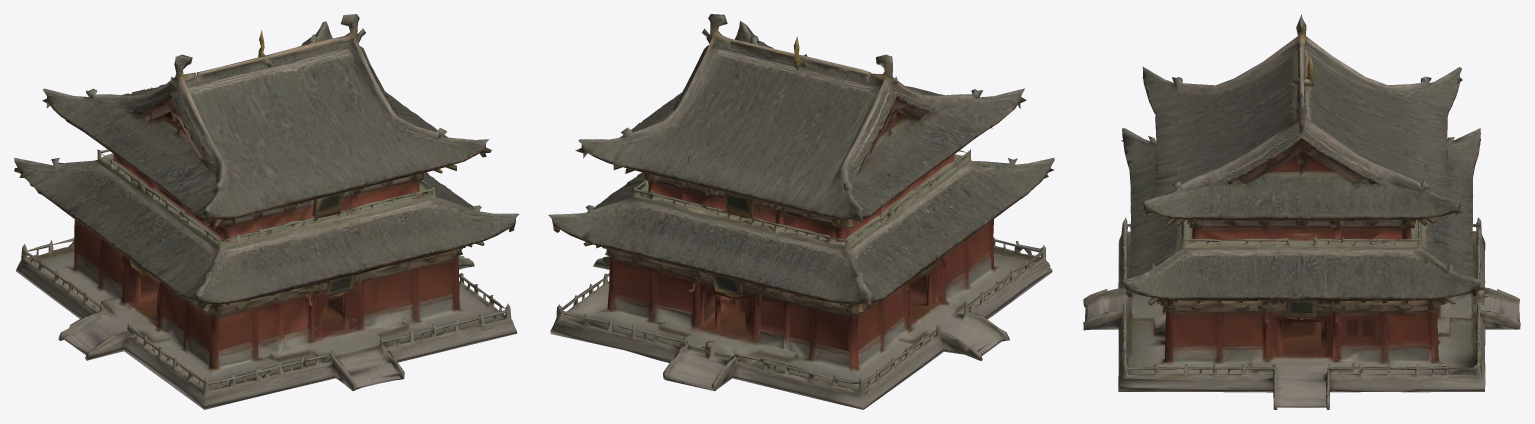
File: building-huayansi.glb
3 views of the same model, side by side, from view 1: azimuth 30°, elevation 25°; view 2: azimuth 150°, elevation 25°; view 3: azimuth 270°, elevation 25° (orthographic). The views are drawn at different scales.
Visible parts, largest first — view 1: node_c8000b40-12c4-4183-b379-727cea79efad; view 2: node_c8000b40-12c4-4183-b379-727cea79efad; view 3: node_c8000b40-12c4-4183-b379-727cea79efad.
Boxes of the visible parts, box(x1,y1,x2,y2) form: node_c8000b40-12c4-4183-b379-727cea79efad: box(14, 14, 519, 409); node_c8000b40-12c4-4183-b379-727cea79efad: box(548, 14, 1054, 409); node_c8000b40-12c4-4183-b379-727cea79efad: box(1083, 14, 1520, 409).
Bounding box in the file's own units: 0.9965 × 0.6643 × 1.
Materials: 1 (1 with a texture image).
